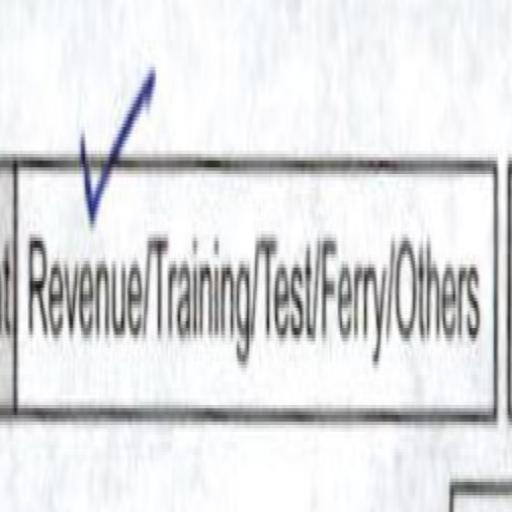check: (23, 85, 142, 425)
